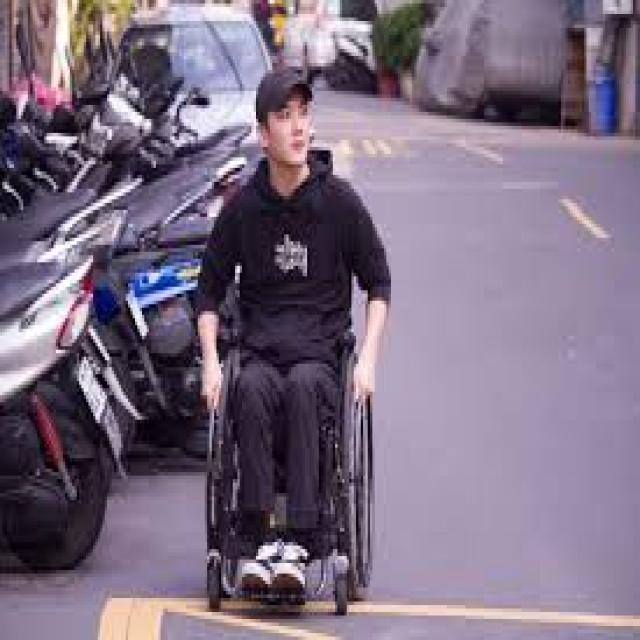wheelchairs: (188, 308, 388, 622)
